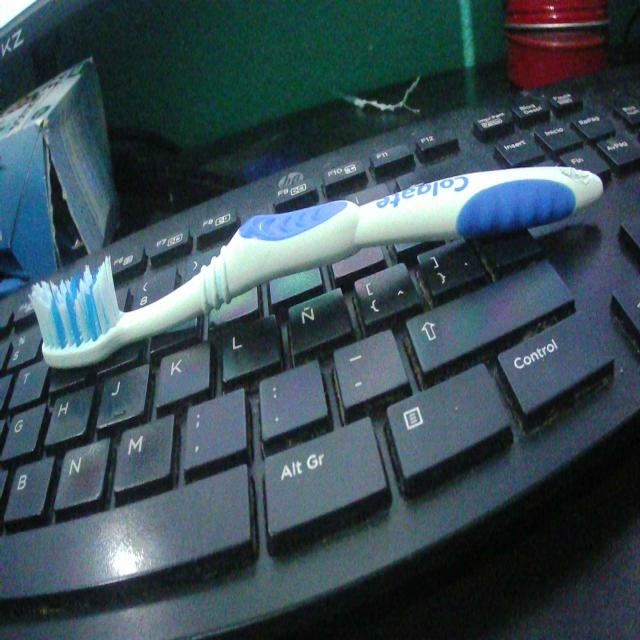Organico: (16, 151, 608, 371)
